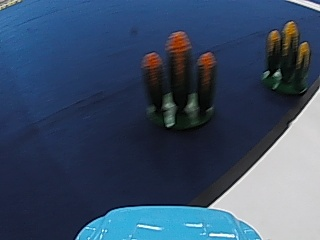corn: (145, 38, 218, 133), (260, 19, 311, 100)
